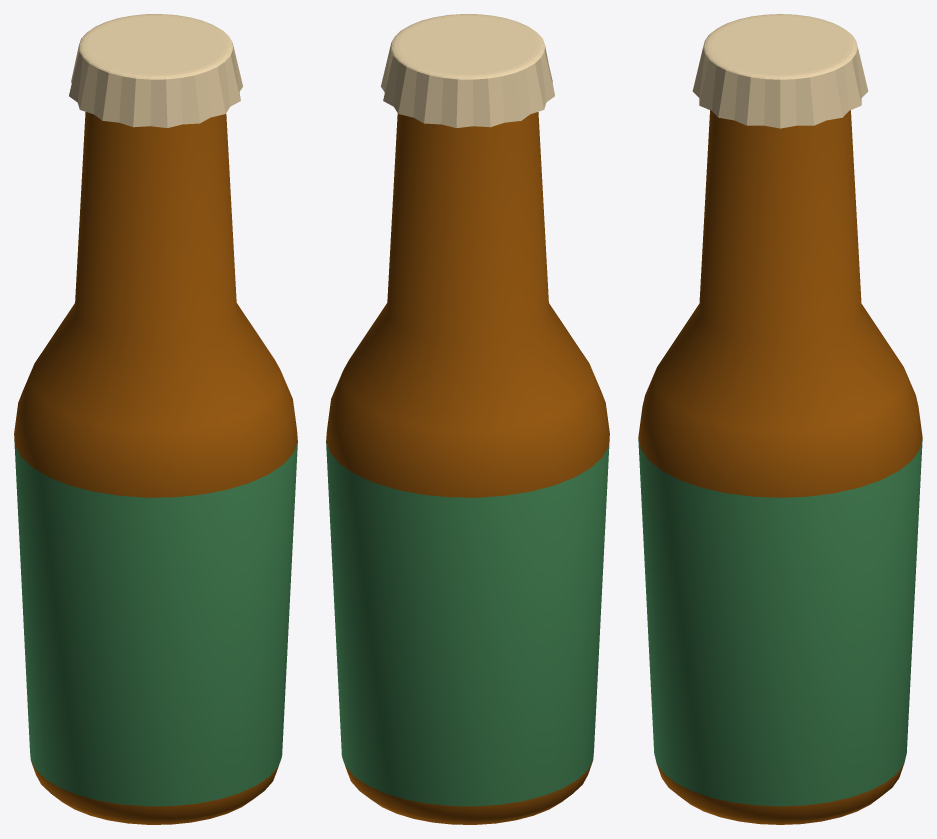
The model's file is santa.glb.
3 renders of one model, left to right at view 1: azimuth 30°, elevation 25°; view 2: azimuth 150°, elevation 25°; view 3: azimuth 270°, elevation 25°, orthographic.
Visible parts, largest first — view 1: Cylinder; view 2: Cylinder; view 3: Cylinder.
Part boxes in pixels (<box>): Cylinder: <box>14,14,297,824</box>; Cylinder: <box>326,14,609,824</box>; Cylinder: <box>638,14,922,824</box>.
Size of the model in its own units: 0.6928 by 1.98 by 0.6928.
